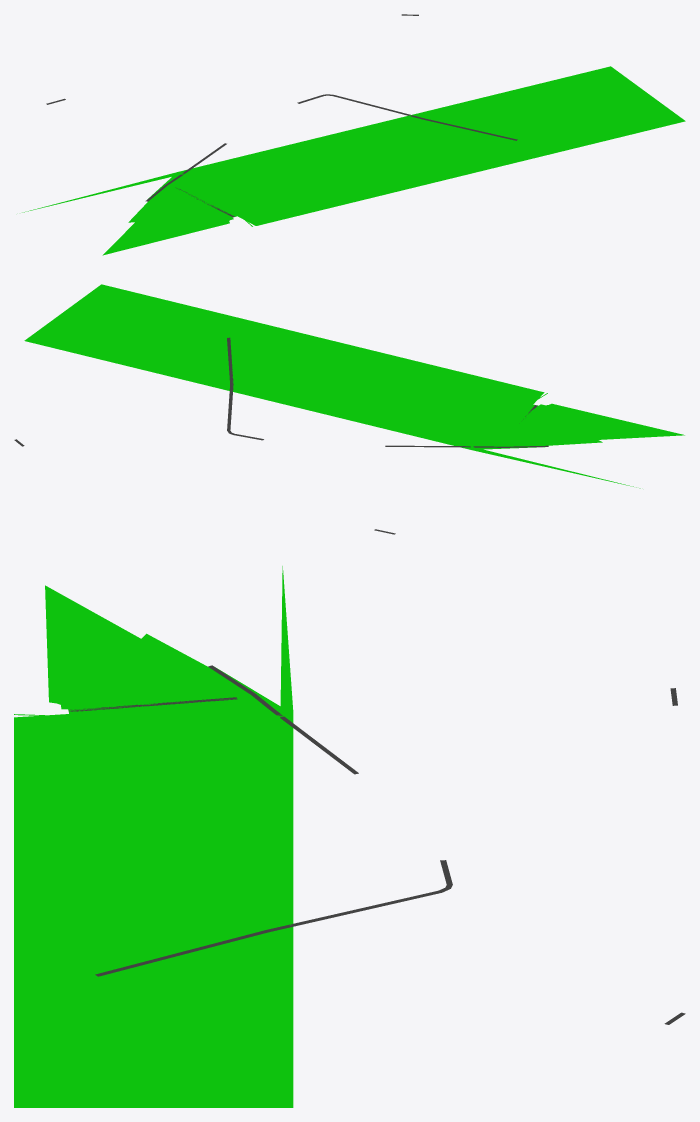
3 views of the same model, one above another, from view 1: azimuth 30°, elevation 25°; view 2: azimuth 150°, elevation 25°; view 3: azimuth 270°, elevation 25° (orthographic). The views are drawn at different scales.
Bounding box in the file's own units: 830 × 0 × 433.
